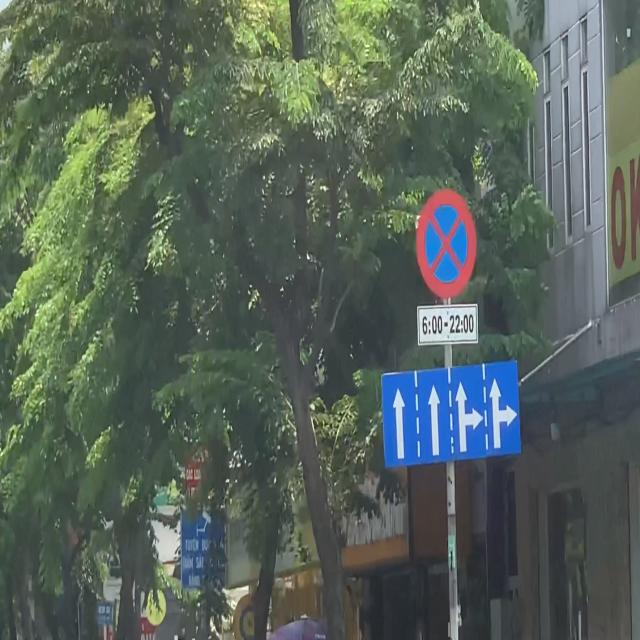Cam dung va do: (414, 187, 479, 303)
